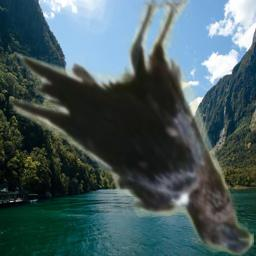Crow: (9, 0, 254, 256)
